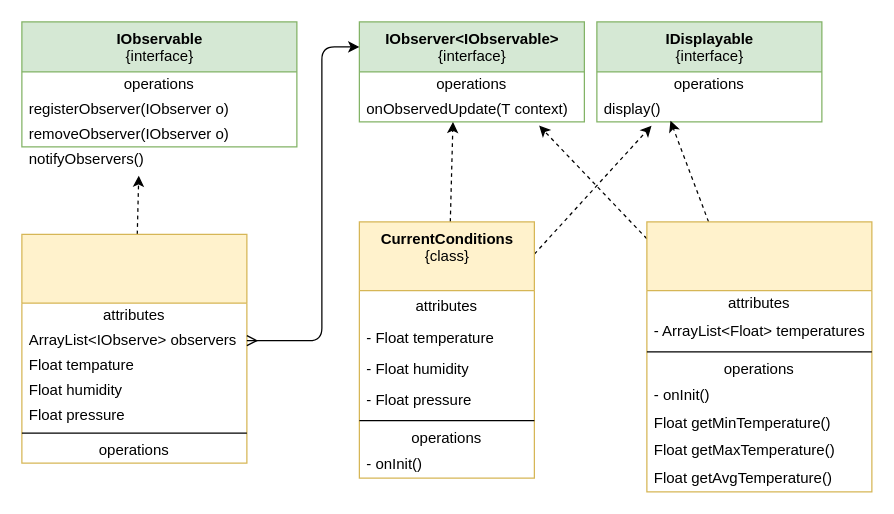
The diagram is 894 pixels wide and 514 high, and some of its shapes have lost their labels. The shapes that lost their labels are listed below. From the top down, each one's box as (x1, y1, x2, y2) in pixels, then its label:
(21, 233, 247, 463): WeatherStation {class}
(646, 221, 872, 492): WeatherStats {class}
